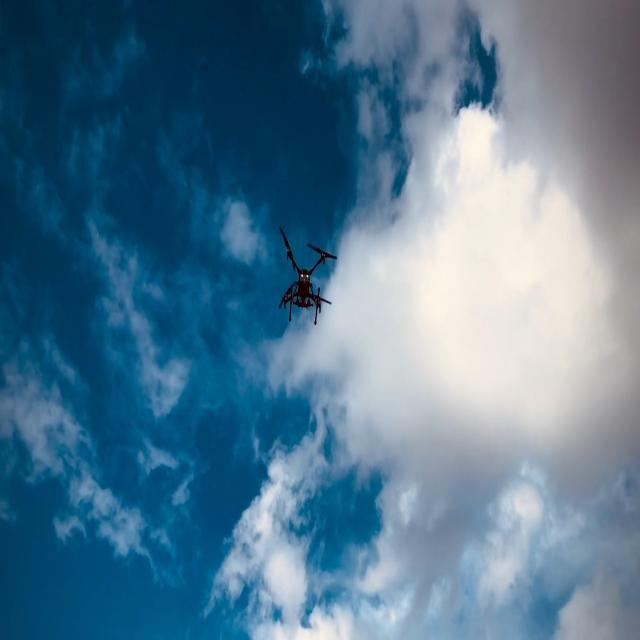drone: (277, 225, 337, 325)
